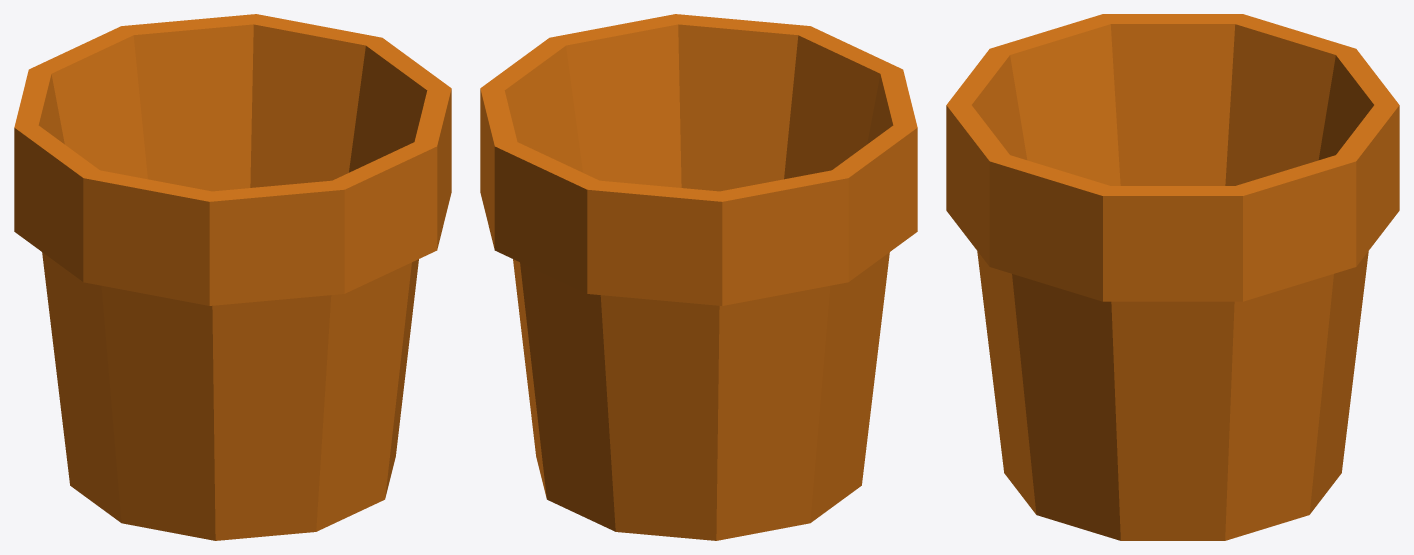
File: flowerpot.fbx
3 views of the same model, side by side, from view 1: azimuth 30°, elevation 25°; view 2: azimuth 150°, elevation 25°; view 3: azimuth 270°, elevation 25° (orthographic).
Visible parts, largest first — view 1: flowerpot; view 2: flowerpot; view 3: flowerpot.
Boxes of the visible parts, x1=… form: flowerpot: x1=14, y1=14, x2=451, y2=540; flowerpot: x1=480, y1=14, x2=917, y2=540; flowerpot: x1=946, y1=14, x2=1399, y2=540.
Bounding box in the file's own units: 214 × 202 × 225.
